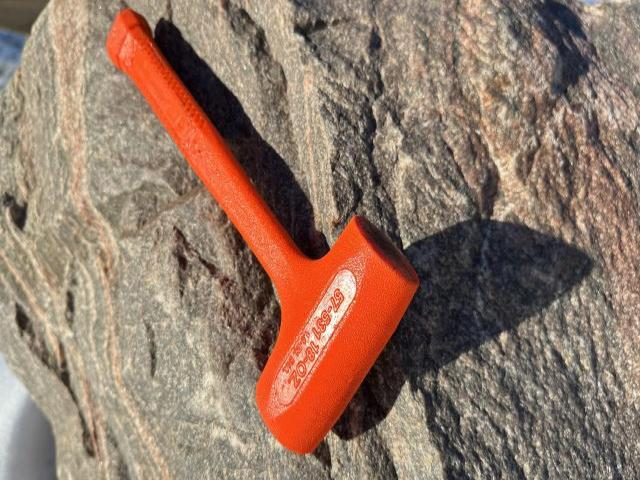hammer: (104, 9, 422, 455)
